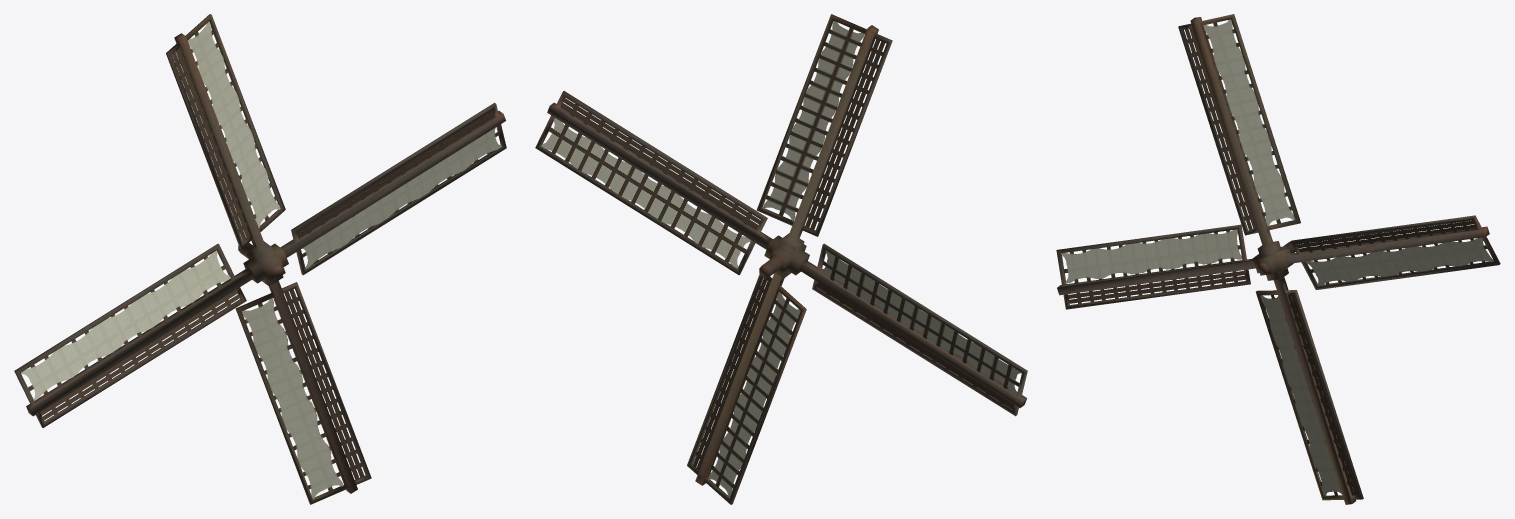
Rendered from wings.obj.
3 views of the same model, side by side, from view 1: azimuth 30°, elevation 25°; view 2: azimuth 150°, elevation 25°; view 3: azimuth 330°, elevation 25° (orthographic). The views are drawn at different scales.
Parts seen in each view (by area): view 1: Default; view 2: Default; view 3: Default.
Part boxes in pixels (bbox=[...]): Default: bbox=[14, 14, 506, 504]; Default: bbox=[535, 14, 1027, 504]; Default: bbox=[1056, 14, 1500, 504].
Size of the model in its own units: 12.69 by 12.69 by 1.53.
1 material, 1 textured.
